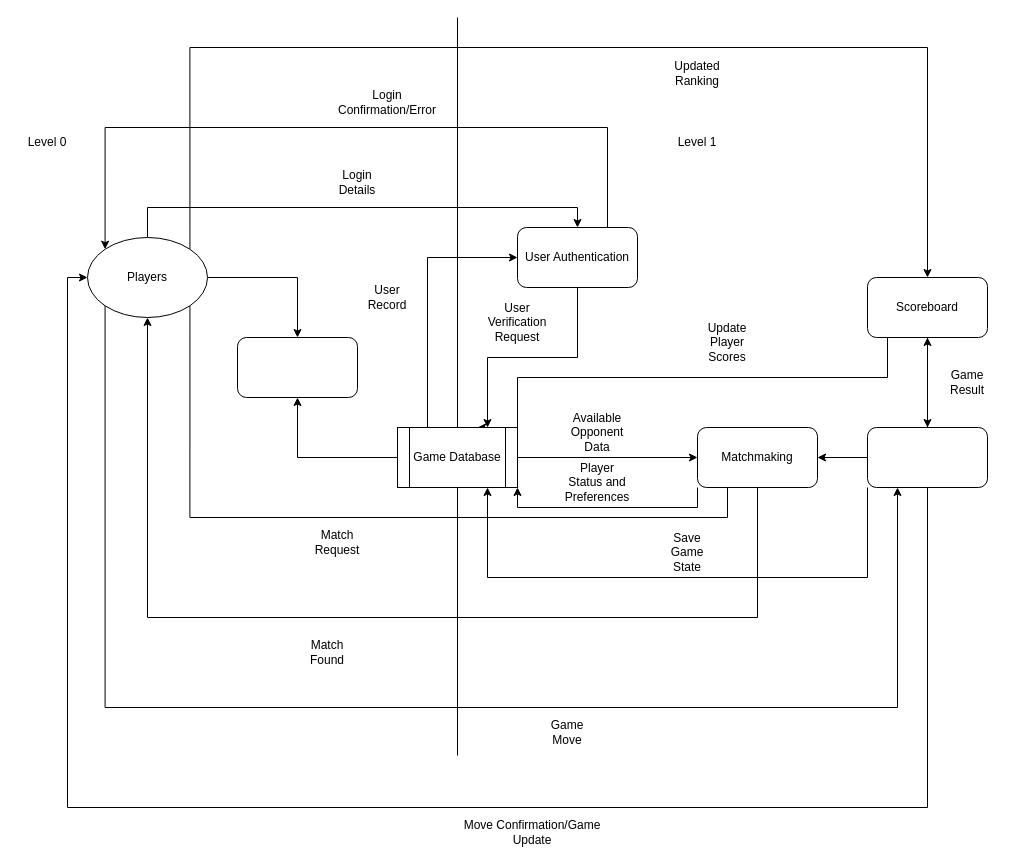
This 1014x865 diagram has some shape labels left out. The shapes that lost their labels are listed below. From the top down, each one's box as (x1, y1, x2, y2) in pixels, then its label:
(236, 336, 358, 398): Global SOS Game
(866, 426, 988, 488): Game Session Management
